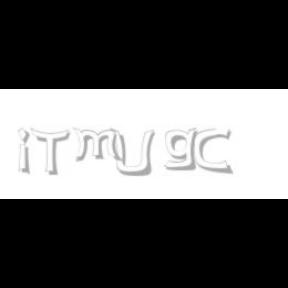C: (195, 128, 232, 174)
T: (30, 128, 70, 176)
U: (110, 128, 154, 178)
g: (164, 128, 201, 171)
i: (17, 128, 33, 176)
m: (71, 128, 123, 162)
